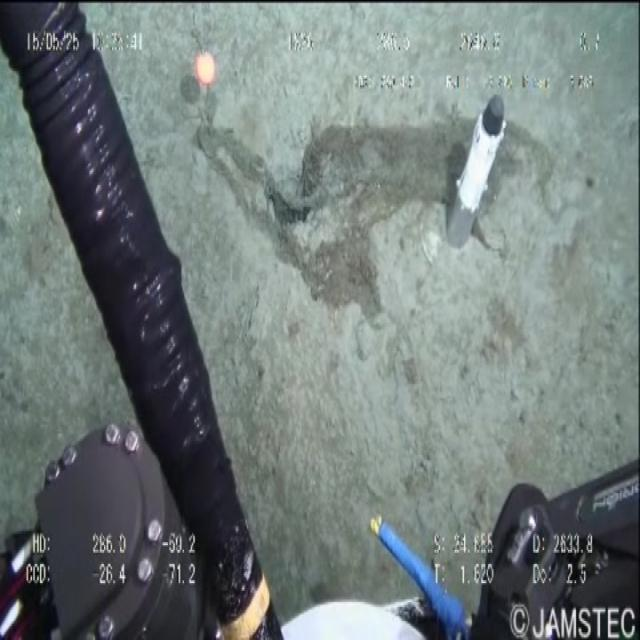Metal: (454, 84, 514, 269)
